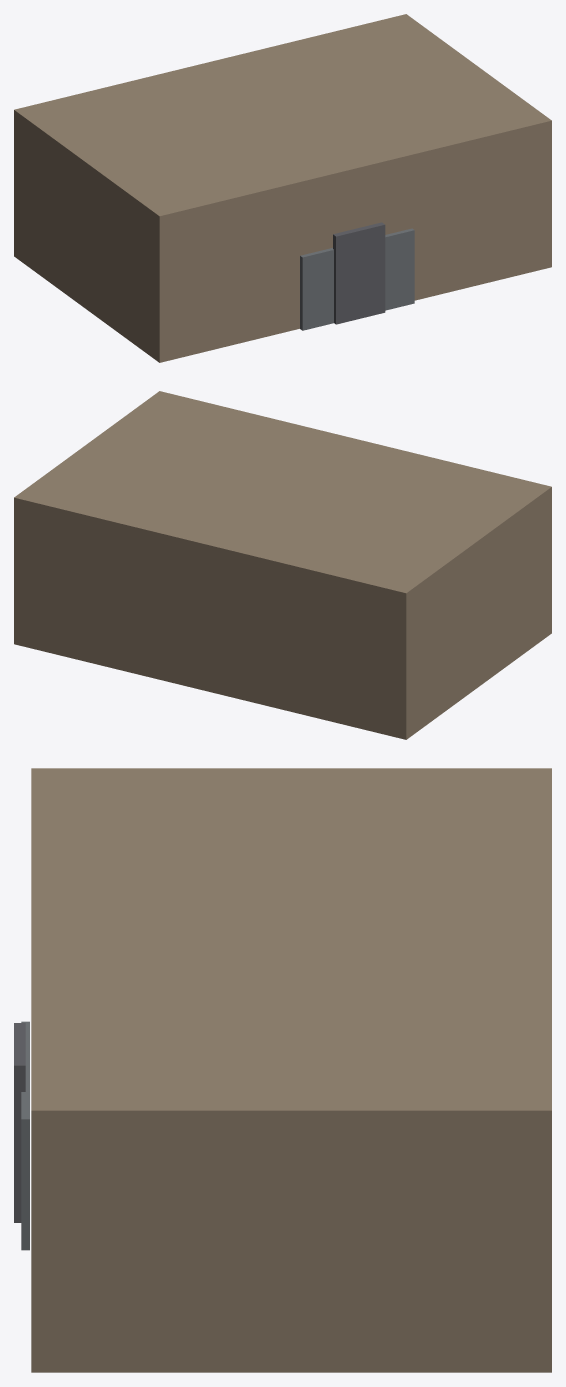
Rendered from warehouse.glb.
3 renders of one model, top to bottom at view 1: azimuth 30°, elevation 25°; view 2: azimuth 150°, elevation 25°; view 3: azimuth 270°, elevation 25°, orthographic. The views are drawn at different scales.
Visible parts, largest first — view 1: p0, p1, p2; view 2: p0; view 3: p0, p2, p1.
Boxes of the visible parts, left/top/right/bottom form: p0: left=14, top=14, right=551, bottom=362; p1: left=300, top=228, right=414, bottom=330; p2: left=333, top=222, right=385, bottom=324; p0: left=14, top=391, right=551, bottom=739; p0: left=31, top=768, right=551, bottom=1372; p2: left=14, top=1023, right=25, bottom=1222; p1: left=21, top=1021, right=29, bottom=1250.
Bounding box in the file's own units: 28 × 10 × 18.6.
